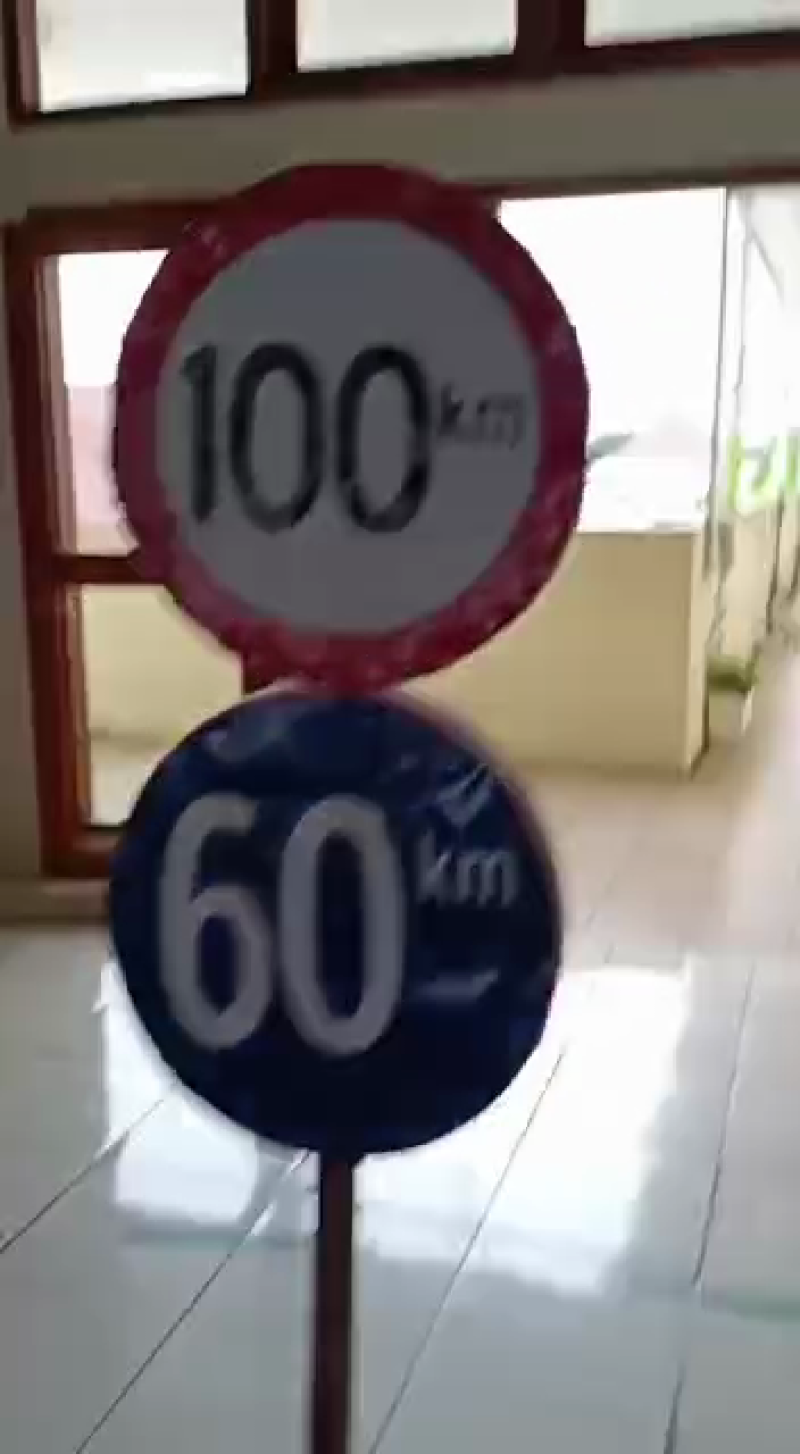batas maksimal 100kmperjam minimal 60kmperjam: (100, 147, 573, 1173)
